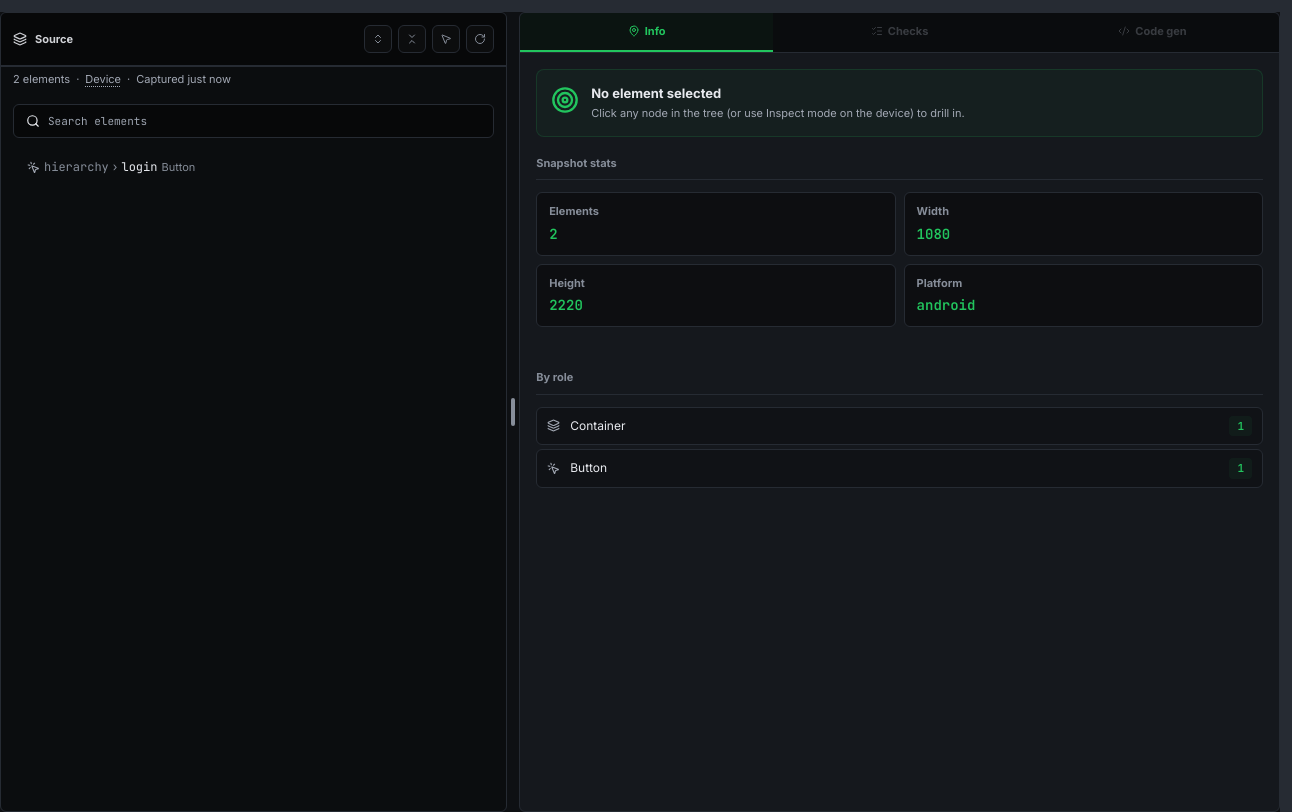
Test: OmniInspector — tree › follows the selection’s xpath into a new capture, and clears it when gone
Click the list item "hierarchy › login Button" at (111, 167), box [27,159,195,175]
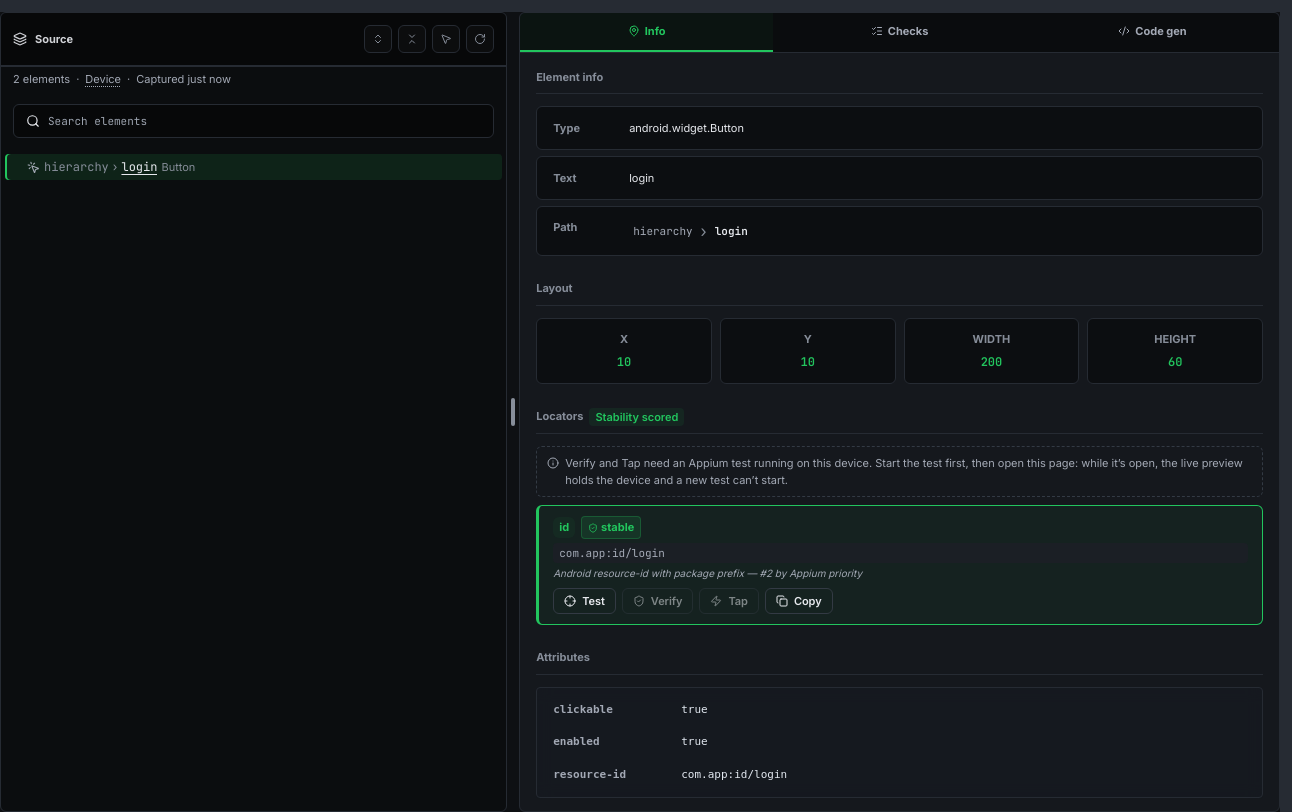
Click the button named "Refresh snapshot" at (480, 39), box [466,25,494,53]
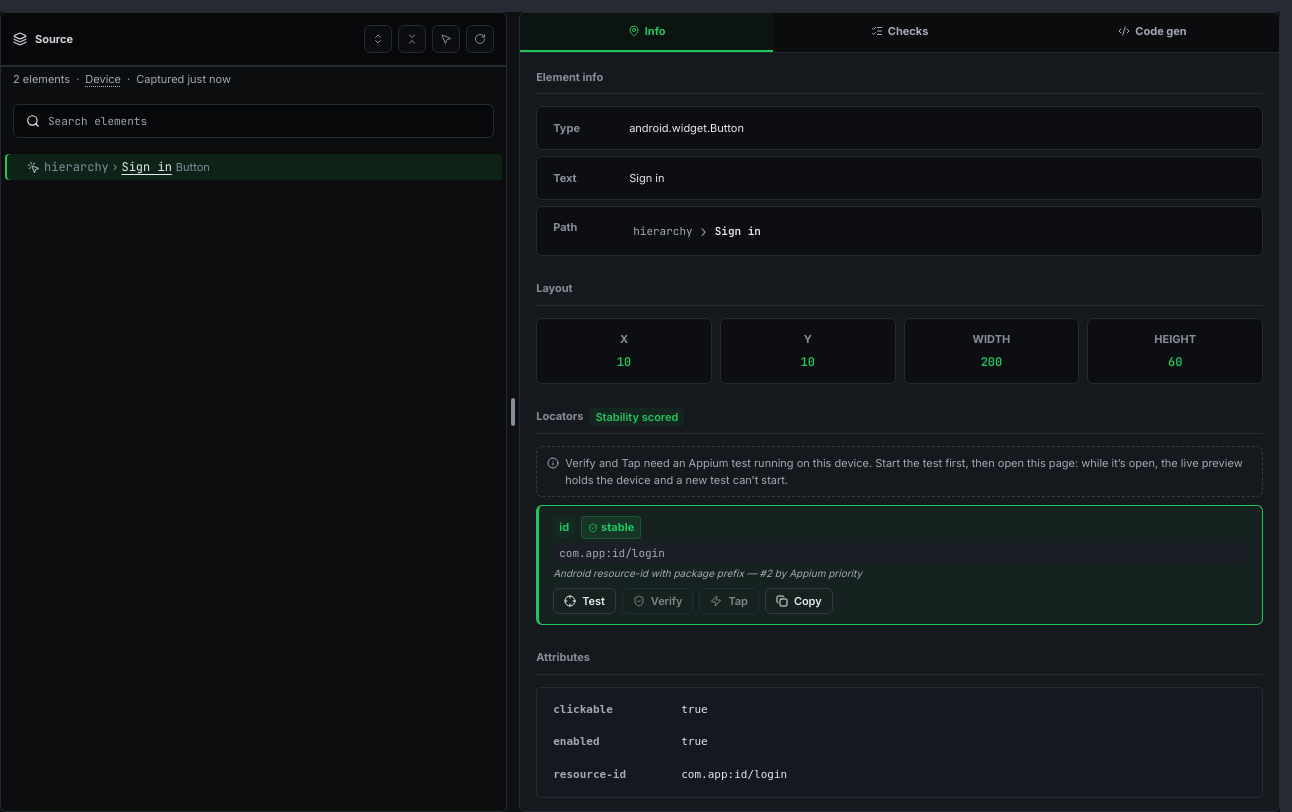
Expected: the text "Sign in" next to "Text" is shown, [629,171,664,185]
Click the button named "Refresh snapshot" at (480, 39), box [466,25,494,53]
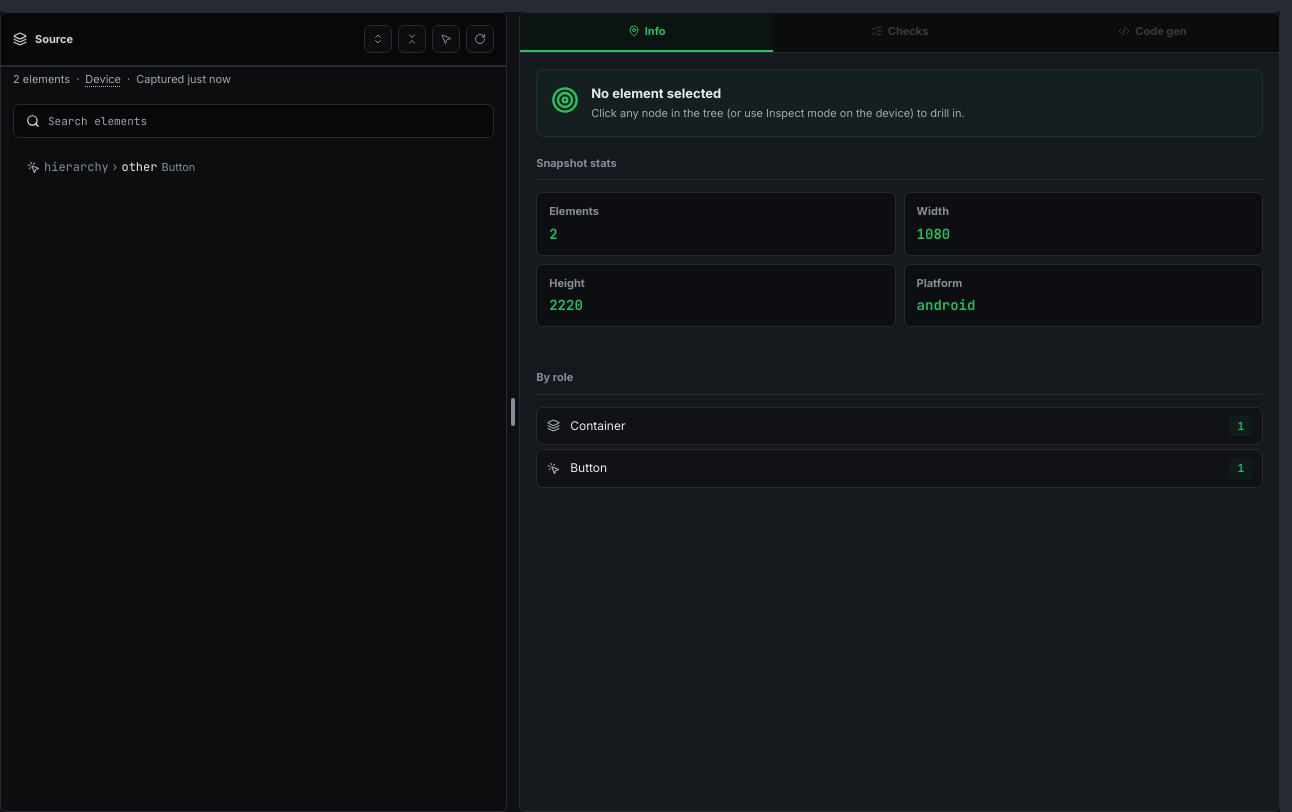
Expected: the text "No element selected" is shown, [591,84,721,100]
